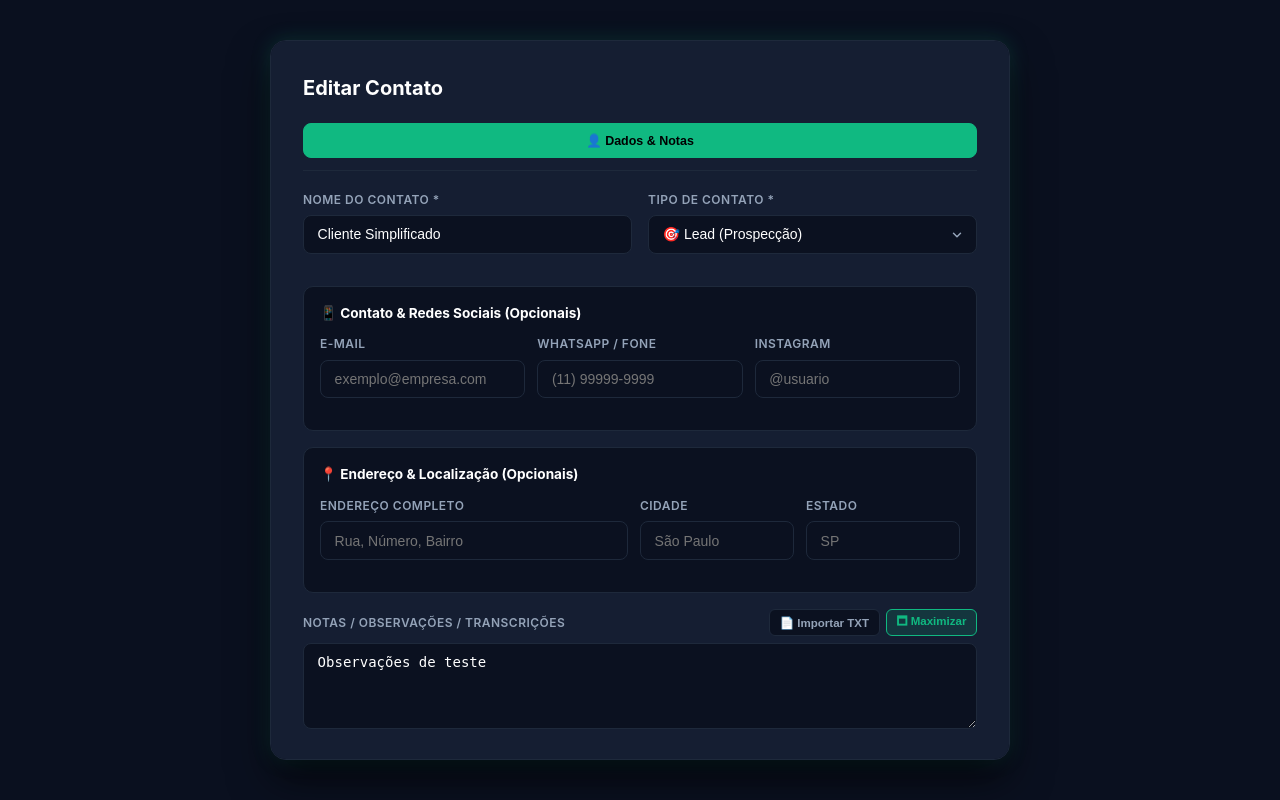
Test: Frontend Component Tests › shows toast notification at top-right when editing contact inside ToastProvider
Replace the text in the field labelled "NOME DO CONTATO *" with "Cliente Com Toast" at {"x": 468, "y": 234}, box [303,215,632,254]
(page scrolled)
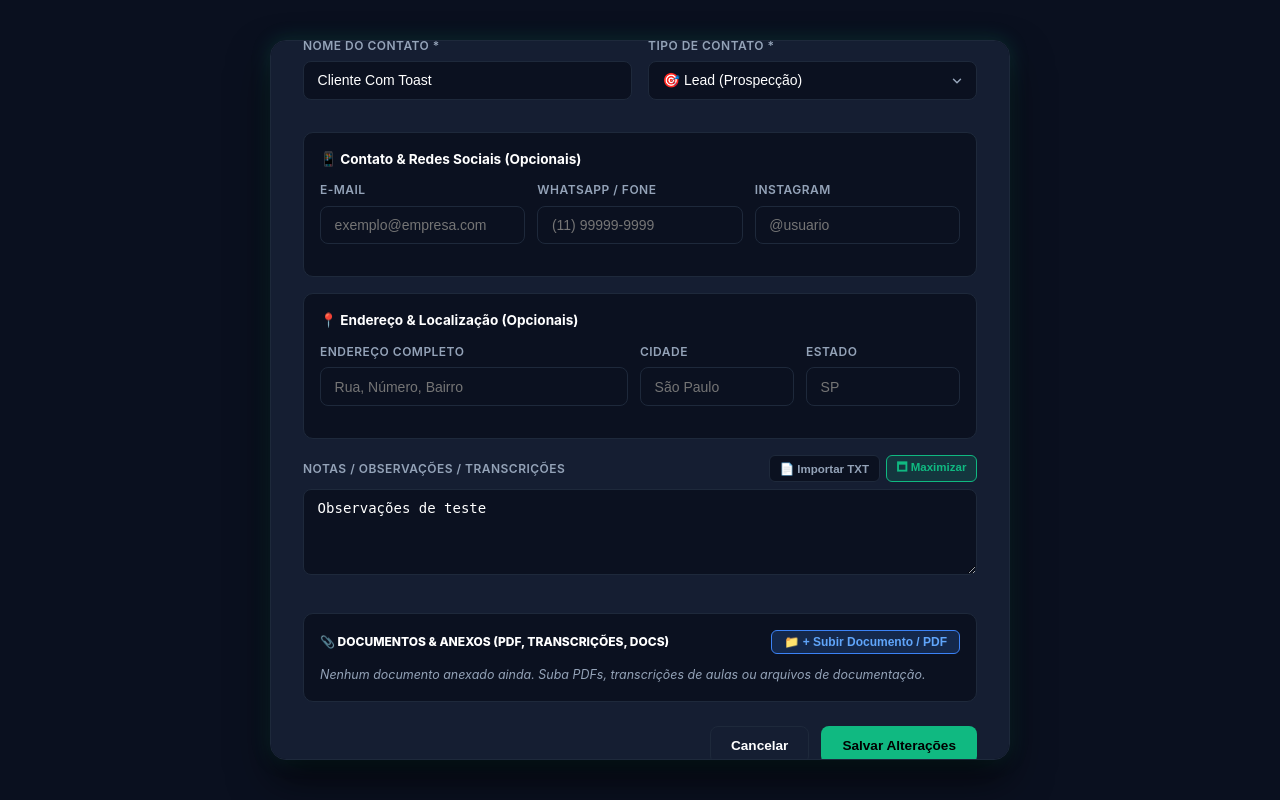
Submit the form with test id "edit-client-form", box [303,37,977,764]
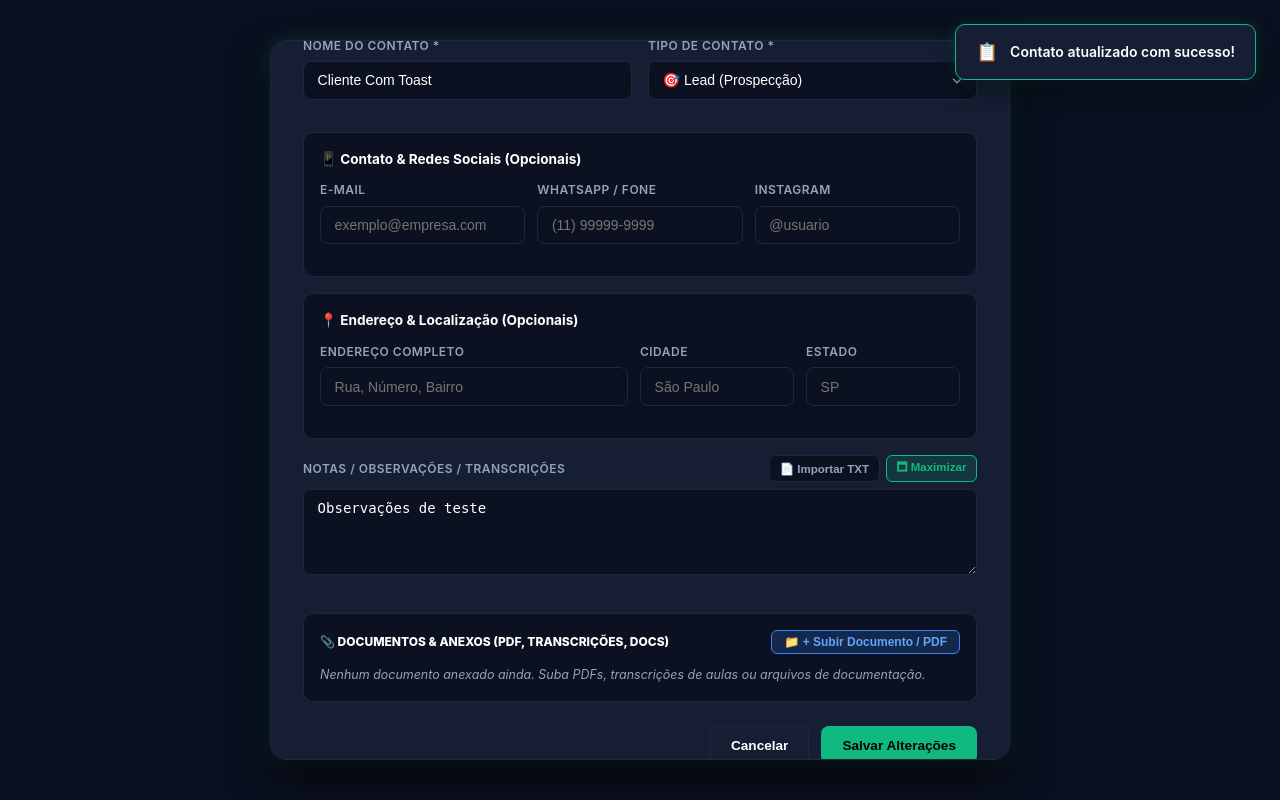
Expected: the text "Contato atualizado com sucesso!" is shown, [1010,41,1235,62]
